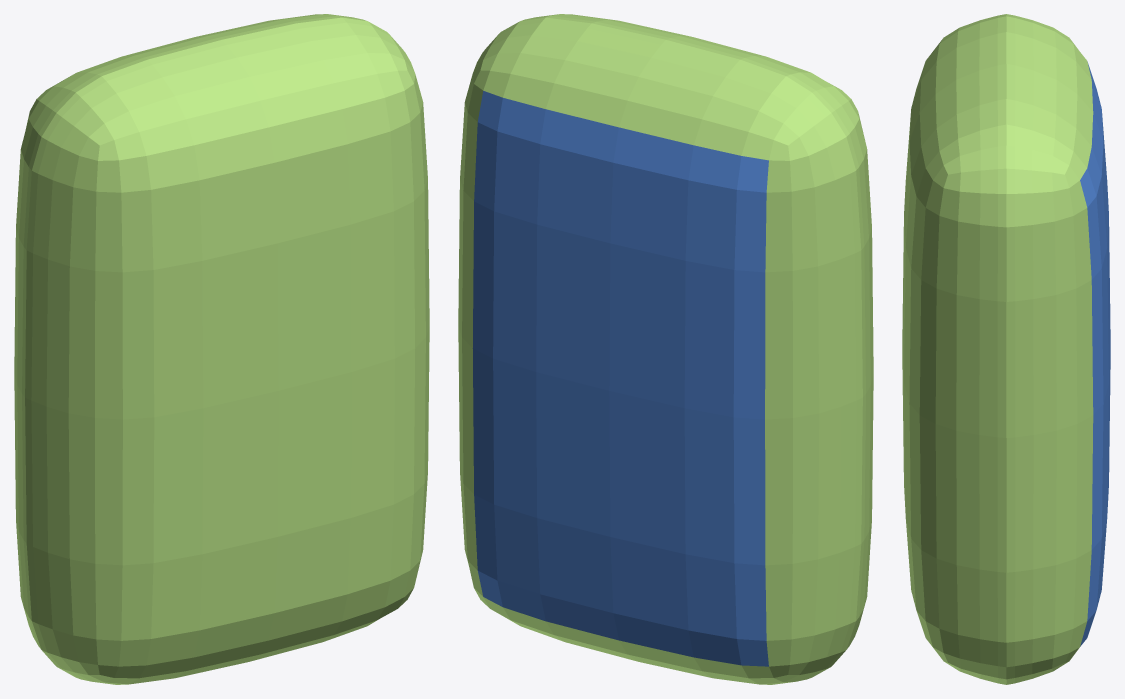
3 views of the same model, side by side, from view 1: azimuth 30°, elevation 25°; view 2: azimuth 150°, elevation 25°; view 3: azimuth 270°, elevation 25° (orthographic). The views are drawn at different scales.
Parts seen in each view (by area): view 1: Cube.005; view 2: Cube.005; view 3: Cube.005.
Boxes of the visible parts, x1,y1,x2,y2 form: Cube.005: (14, 14, 429, 684); Cube.005: (458, 14, 873, 684); Cube.005: (902, 14, 1110, 684).
Bounding box in the file's own units: 1.99 × 2.99 × 0.9889.
